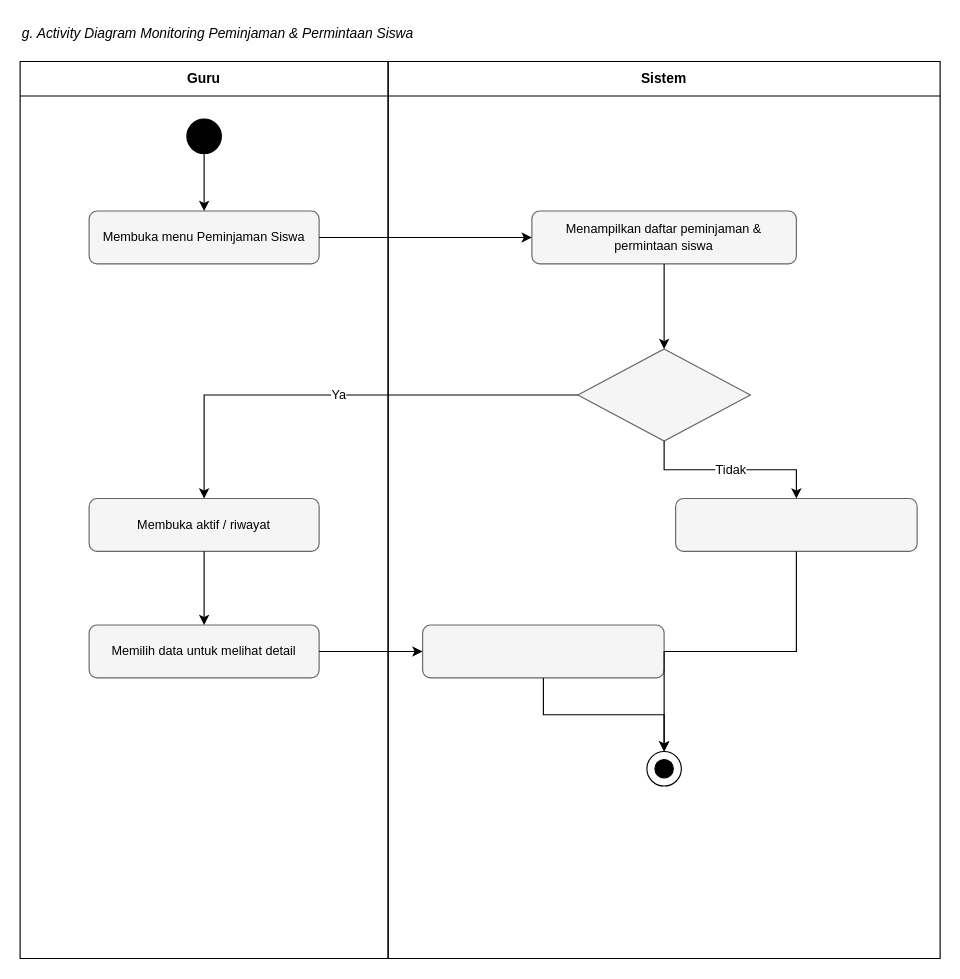
Image size: 960x979. Some labels were removed from this diagram. The shapes that lost their labels are listed below. From the top down, each one's centre as x and y in pixels, then its label:
At pixel 663 394: "Ada data?".
At pixel 795 524: "Menampilkan pesan data belum tersedia".
At pixel 542 651: "Menampilkan detail & jadwal praktikum".
